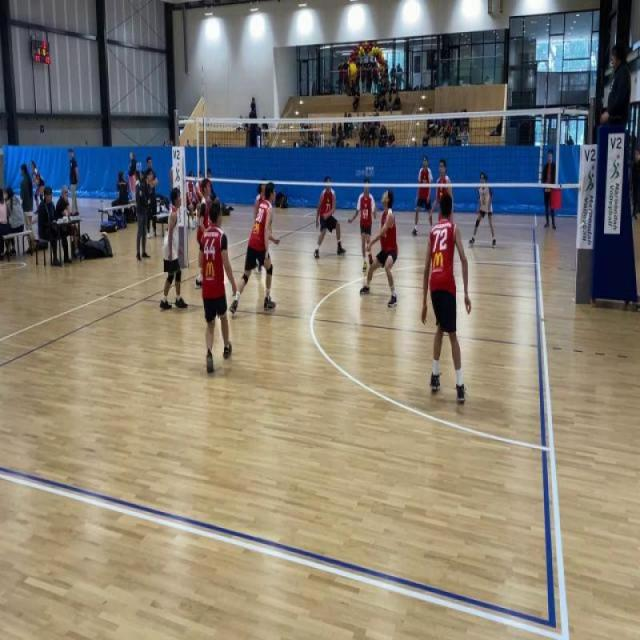volleyball: (347, 62, 358, 80), (100, 230, 108, 240)
